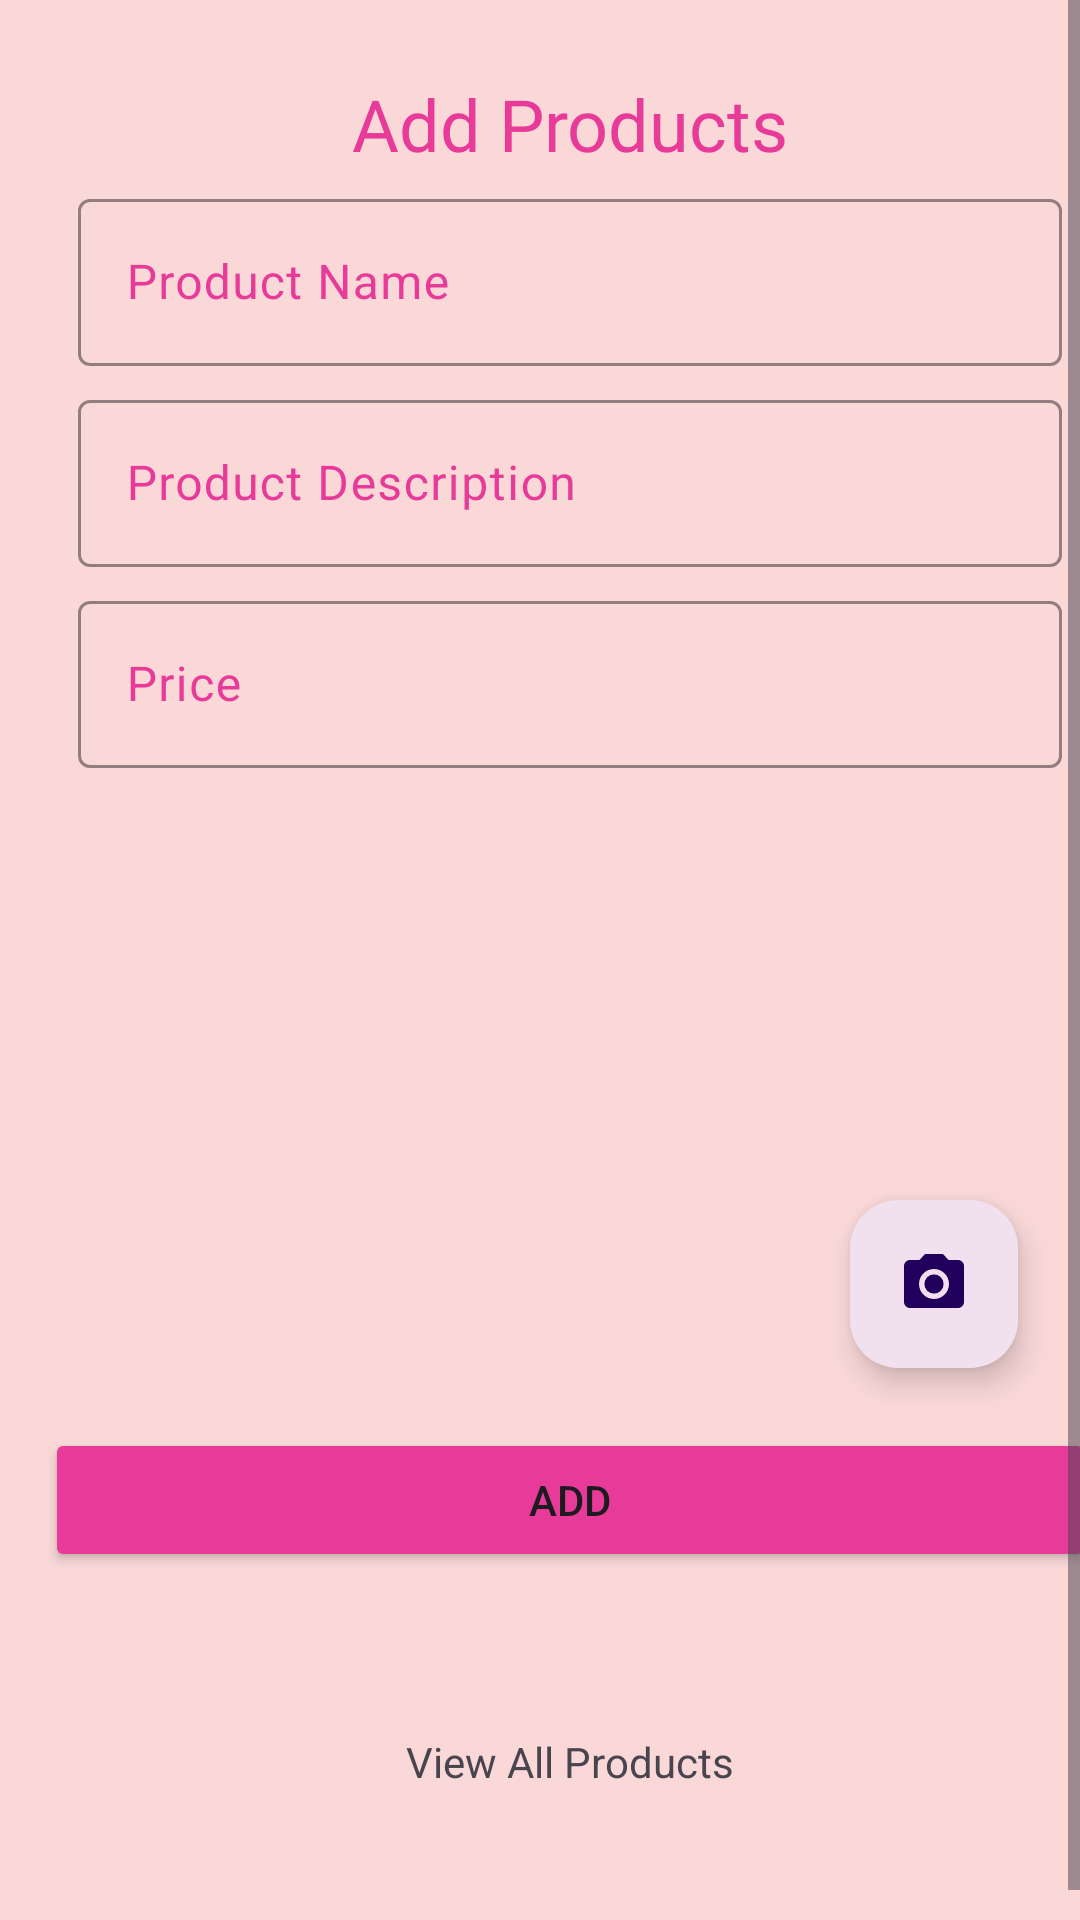

Screen size 1080px×1920px. Icon name, then its center in pixels as (x,y):
Upload Photo: (934,1284)
